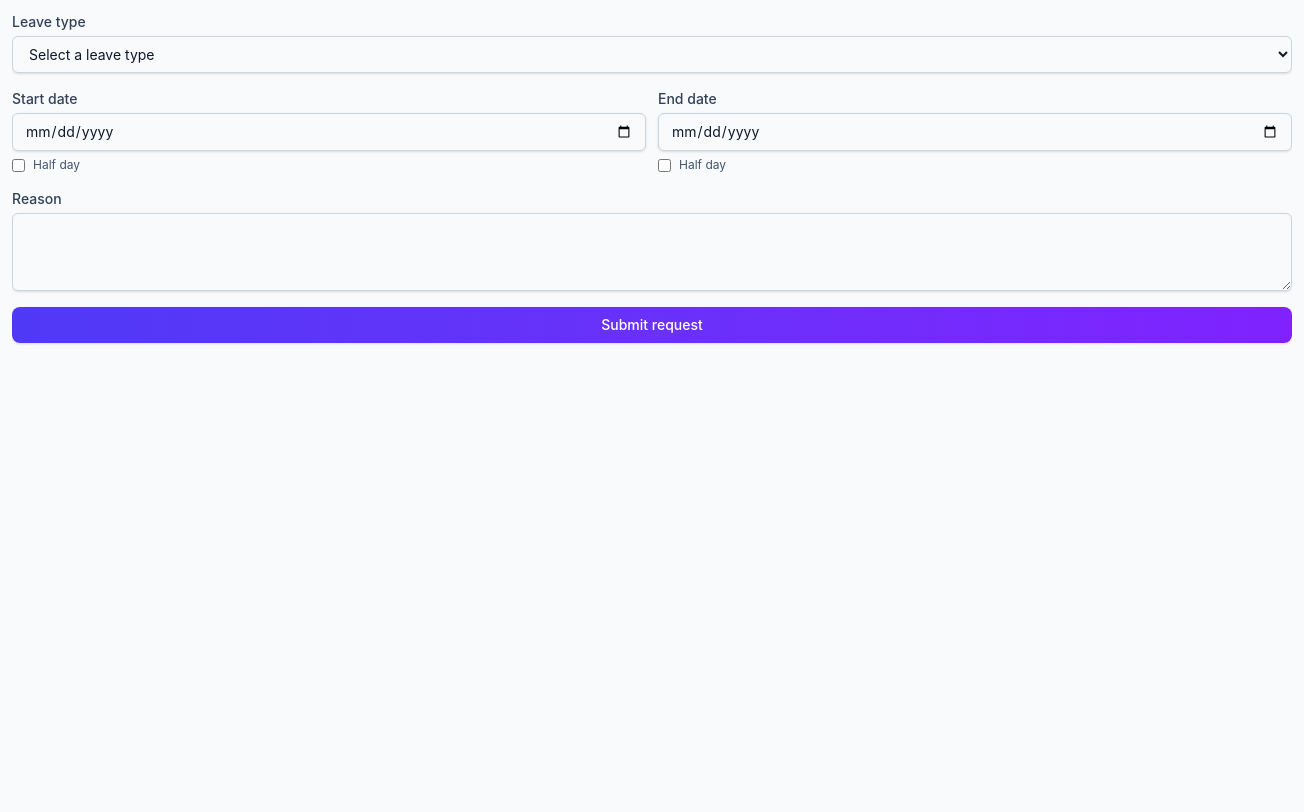
Test: RequestLeaveForm › surfaces the server's error message without clearing the form
Select "Annual Leave" in the dropdown labelled "Leave type" at (652,54), box left=12, top=36, right=1292, bottom=73
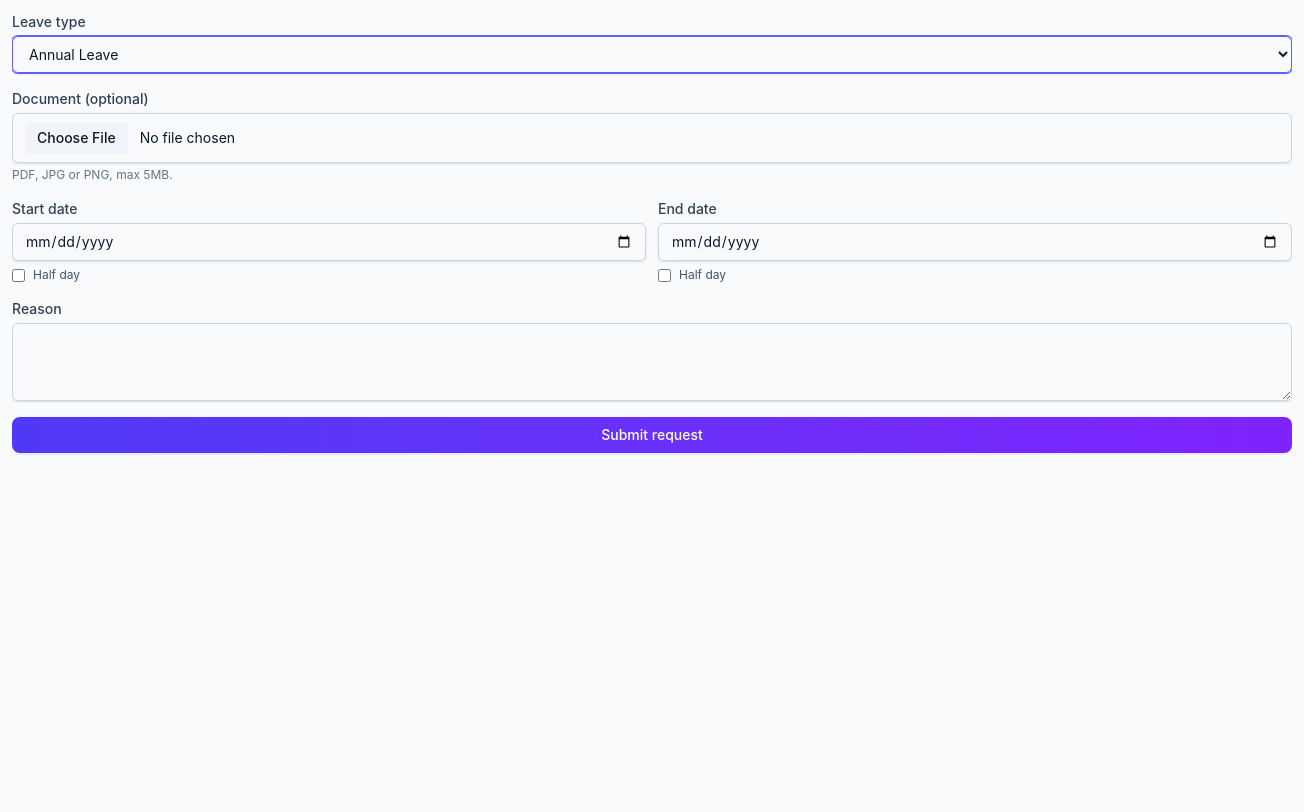
Type "2027-01-04" into the date field labelled "Start date".
click(329, 242); type("2027-01-04")  # box left=12, top=223, right=646, bottom=261
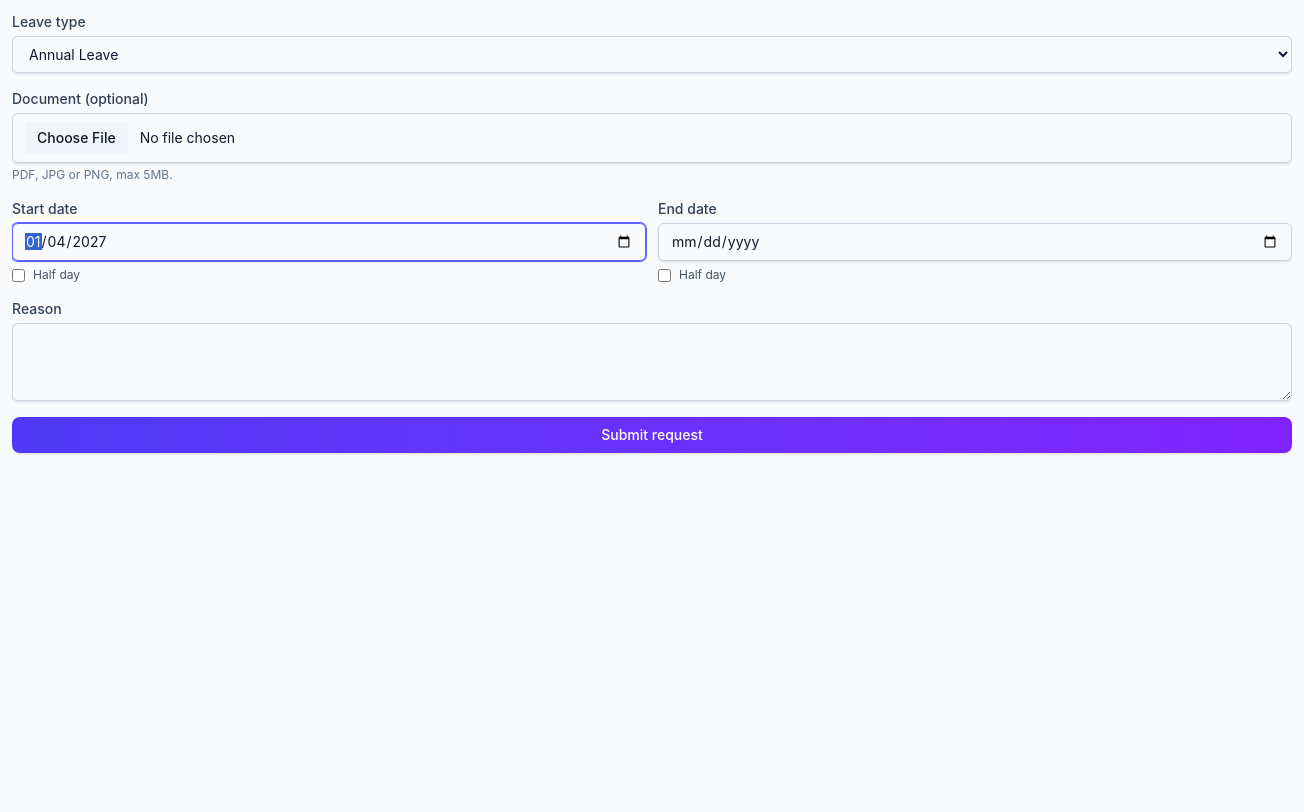
Type "2027-01-05" into the date field labelled "End date".
click(975, 242); type("2027-01-05")  # box left=658, top=223, right=1292, bottom=261
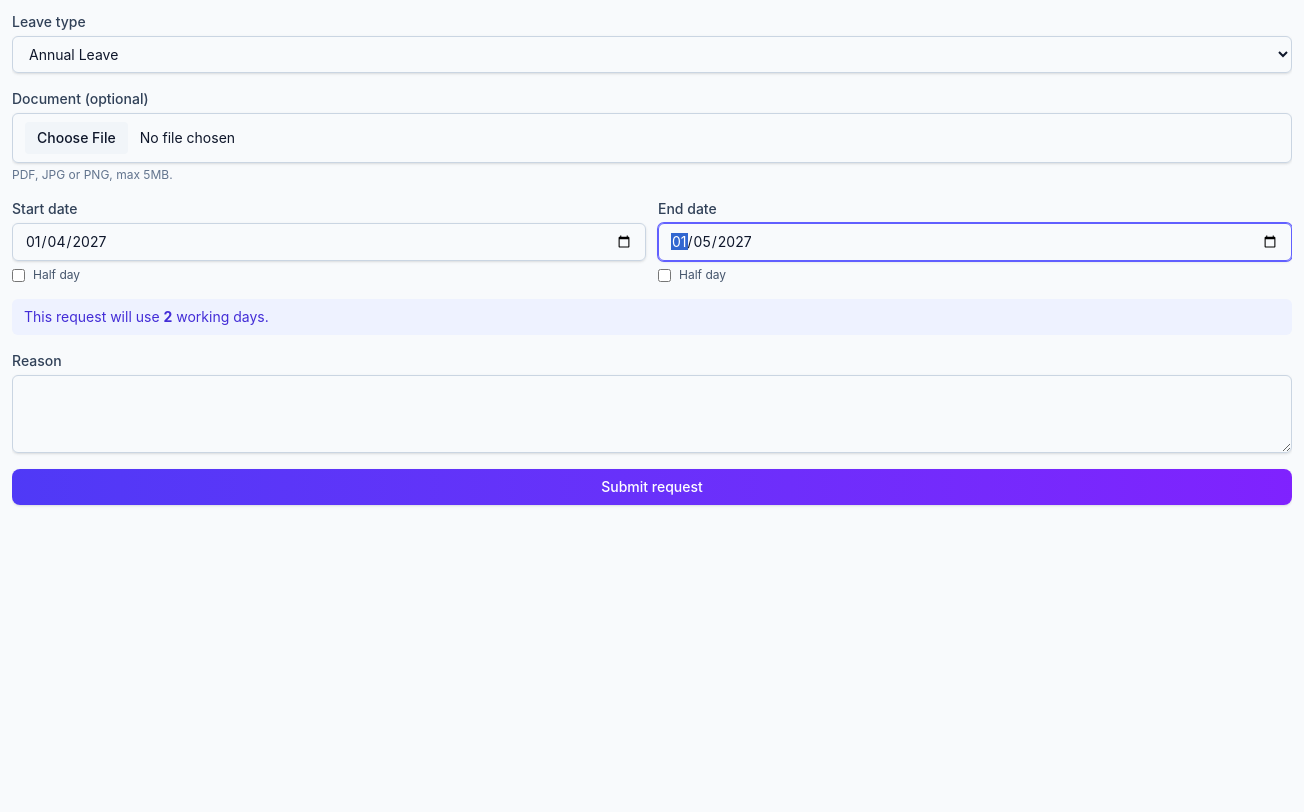
Type "Too much" into the text box labelled "Reason".
click(652, 414); type("Too much")  # box left=12, top=375, right=1292, bottom=453
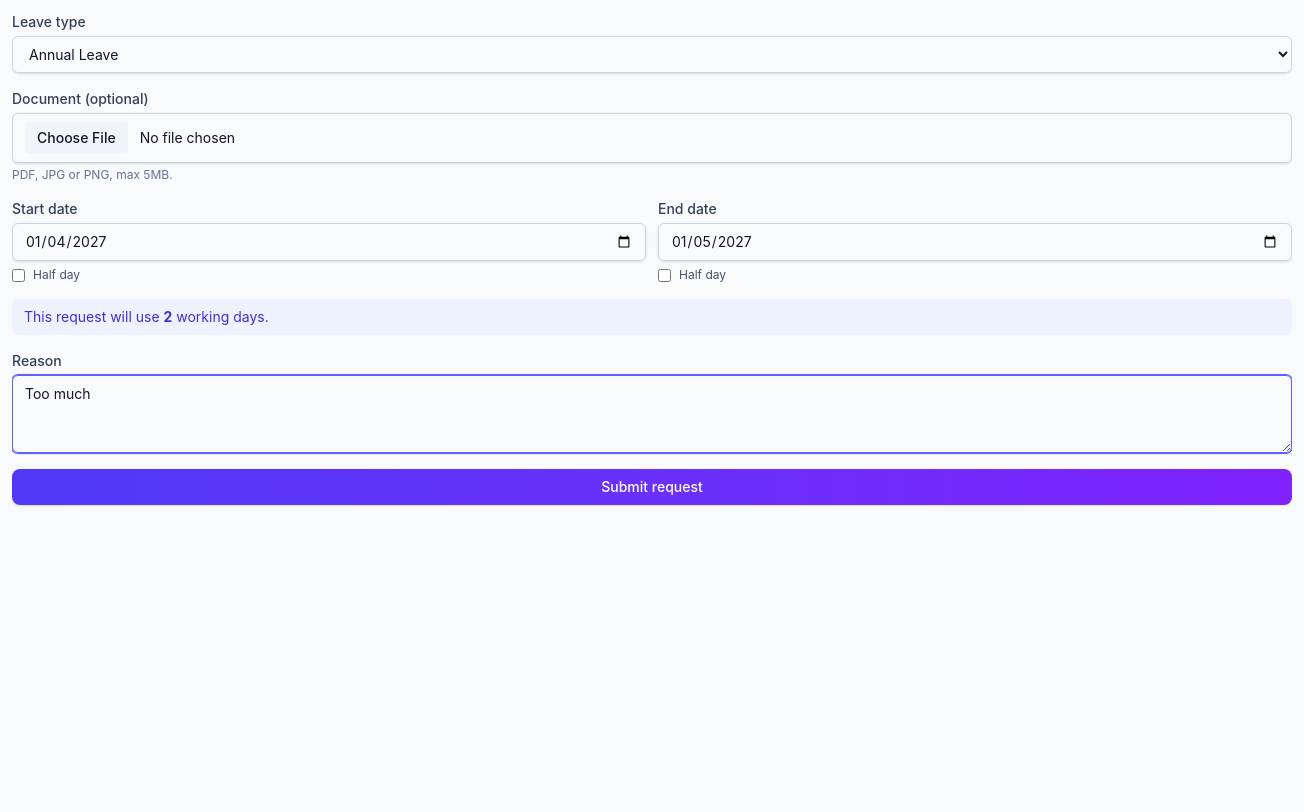
Click the button "Submit request".
click(652, 487)  # box left=12, top=469, right=1292, bottom=505
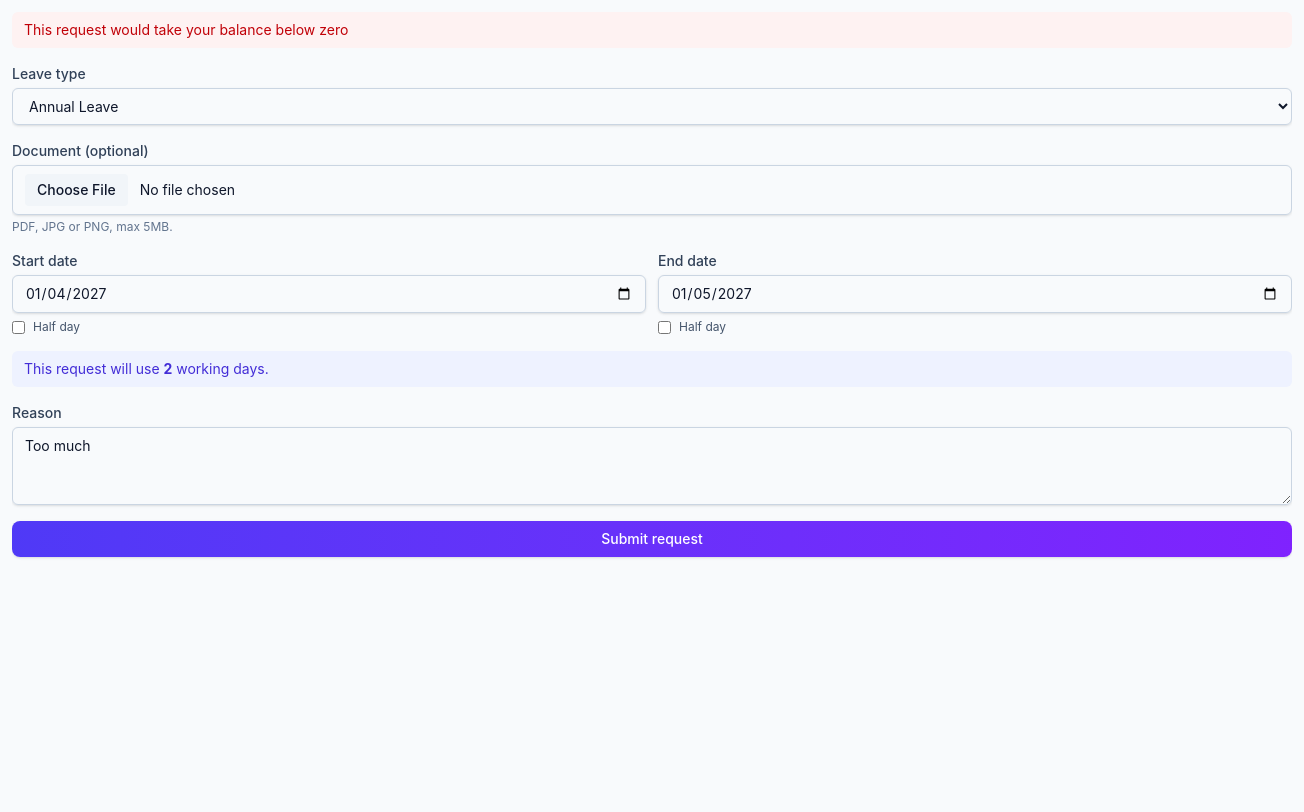
Now the message shows "would take your balance below zero", box left=24, top=21, right=348, bottom=38
